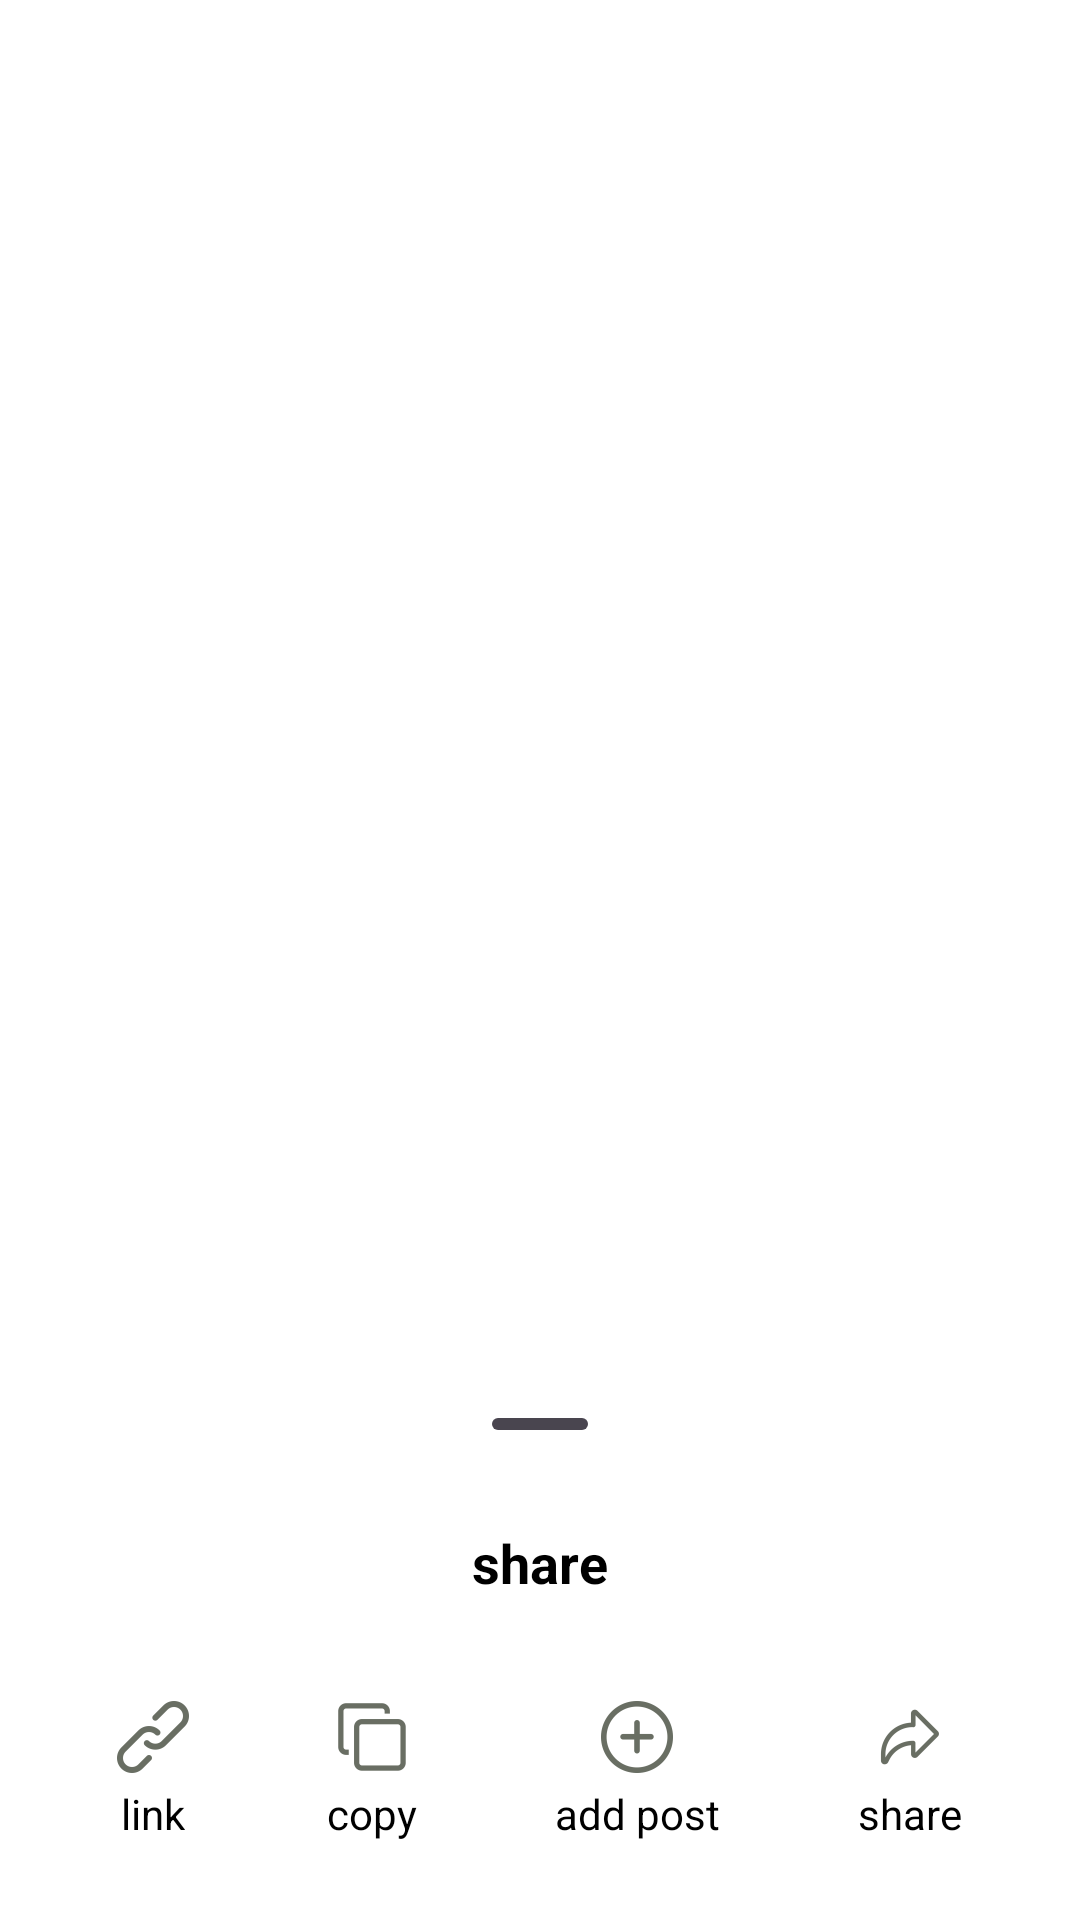

Icon click points for this 1080w x 1920h phone screenshot, format point (x, y):
plus: point (637, 1737)
